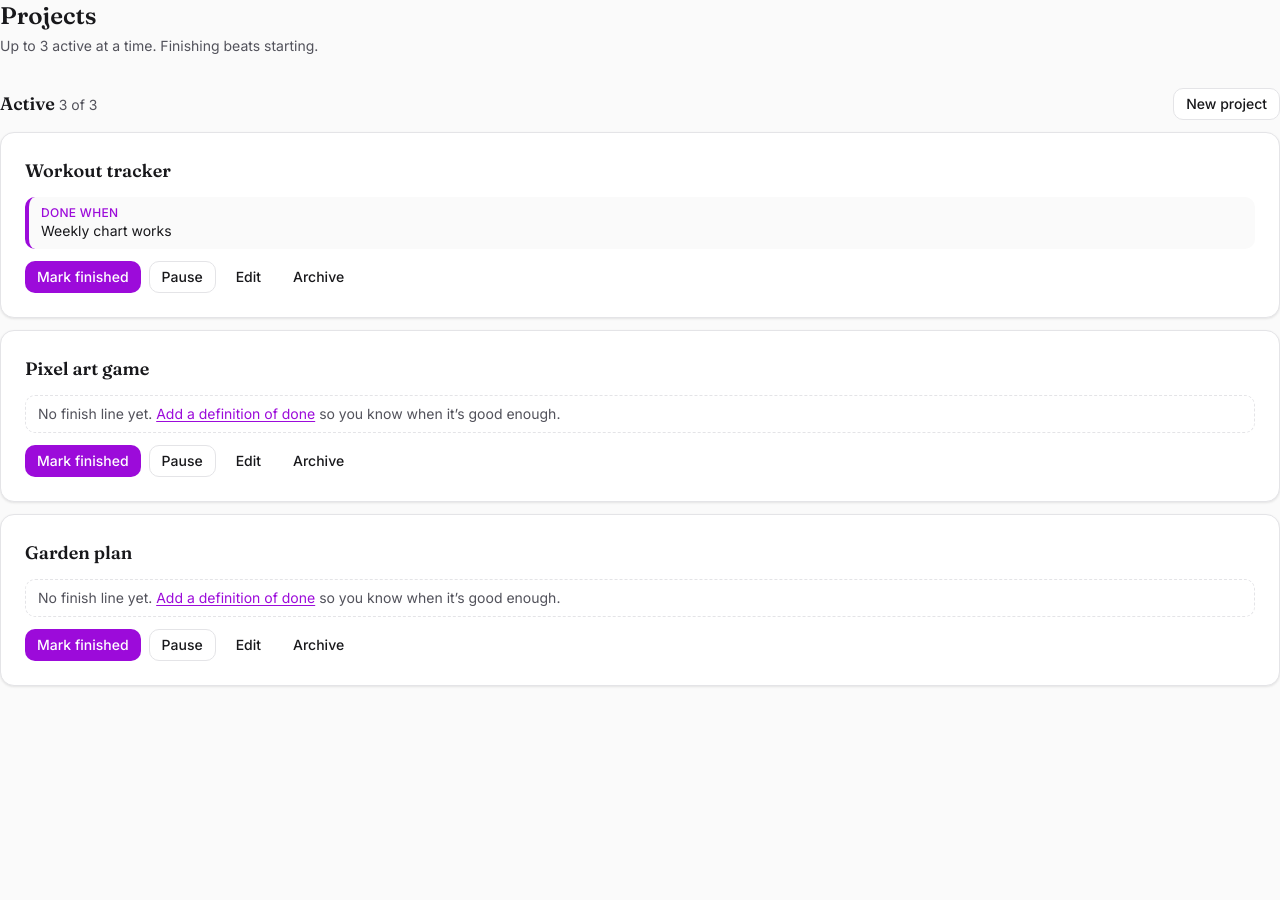
Test: ProjectsPage › at the 3-project limit › explains the limit and offers to park the idea instead
The width and height of the screenshot is (1280, 900).
Click the button "New project": x=1227, y=104 [1173, 88, 1279, 120]
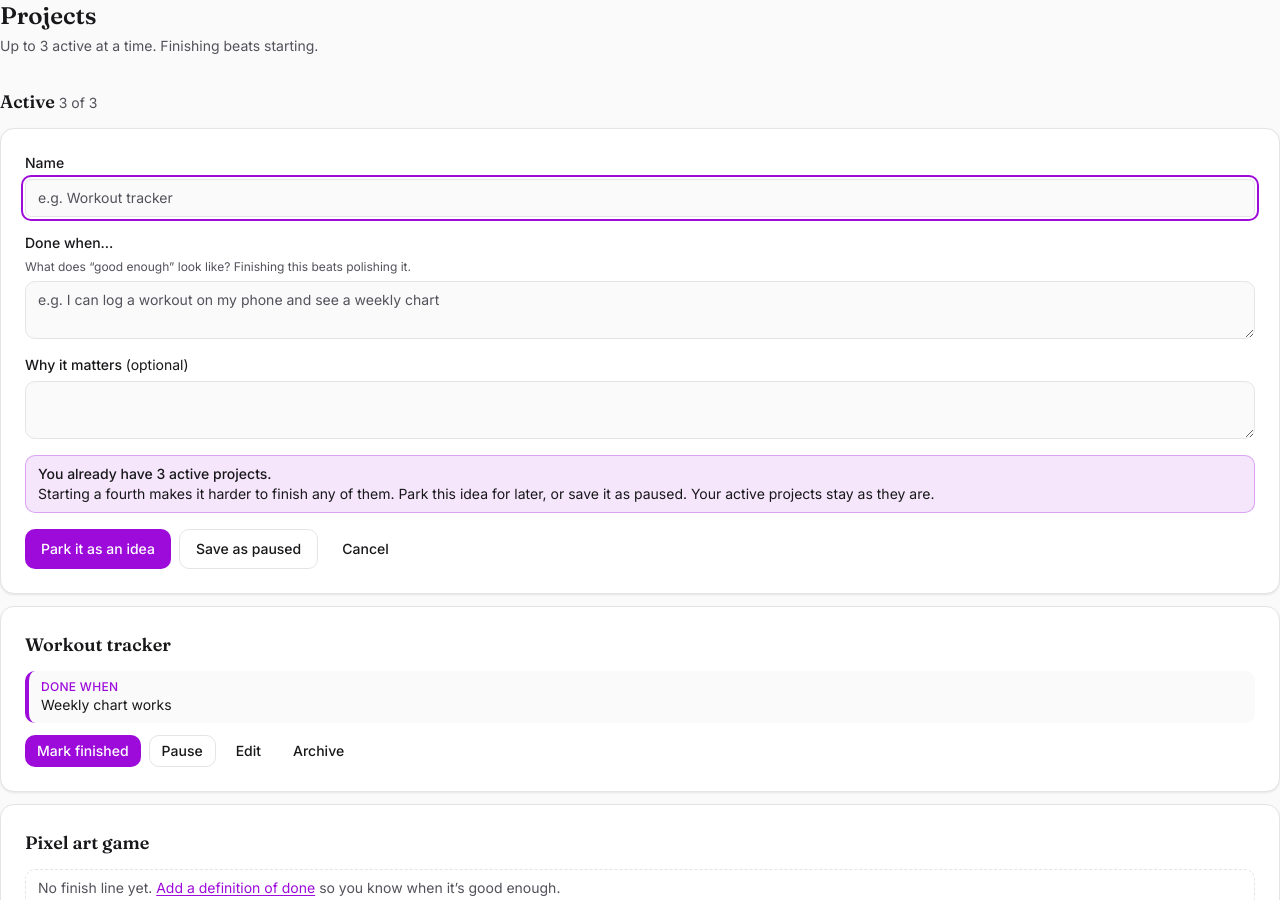
In the field labelled "Name": x=640, y=198 [25, 179, 1255, 217], type "Learn Rust"
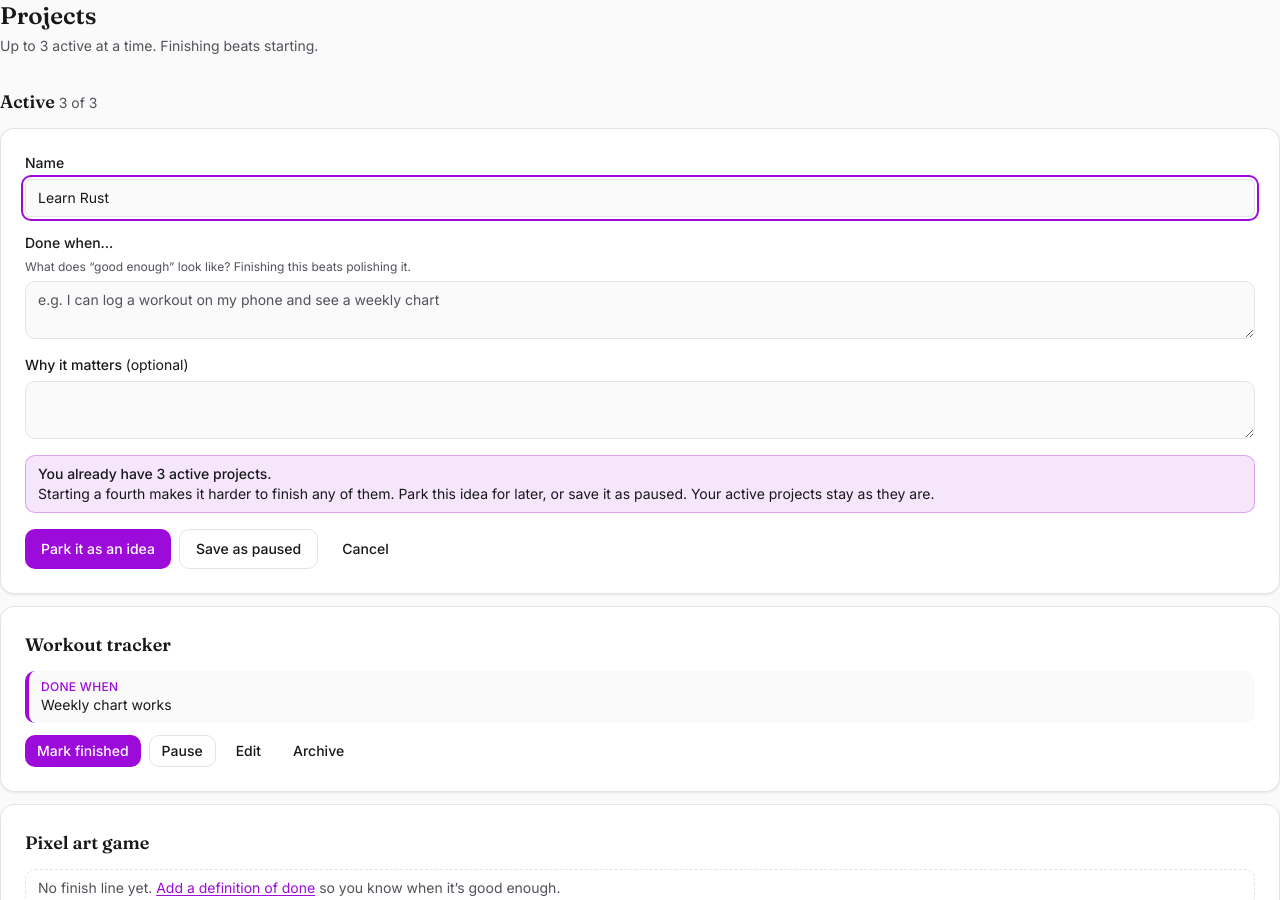
In the text box labelled "Done when…": x=640, y=310 [25, 281, 1255, 339], type "Finish chapter 10"
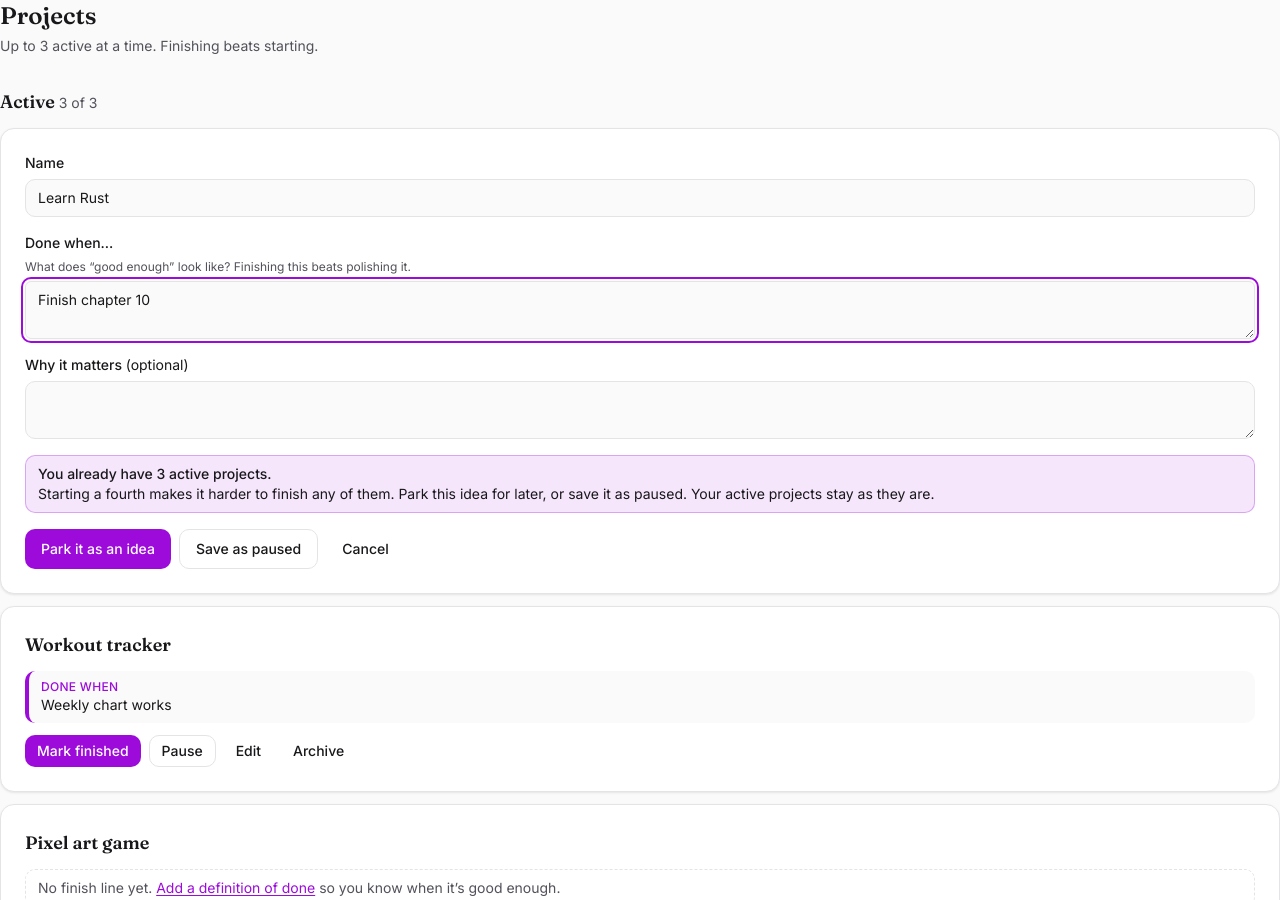
Now the message shows "You already have 3 active projects", box [38, 465, 272, 482]
Click the button "Park it as an idea": x=98, y=549 [25, 529, 171, 569]
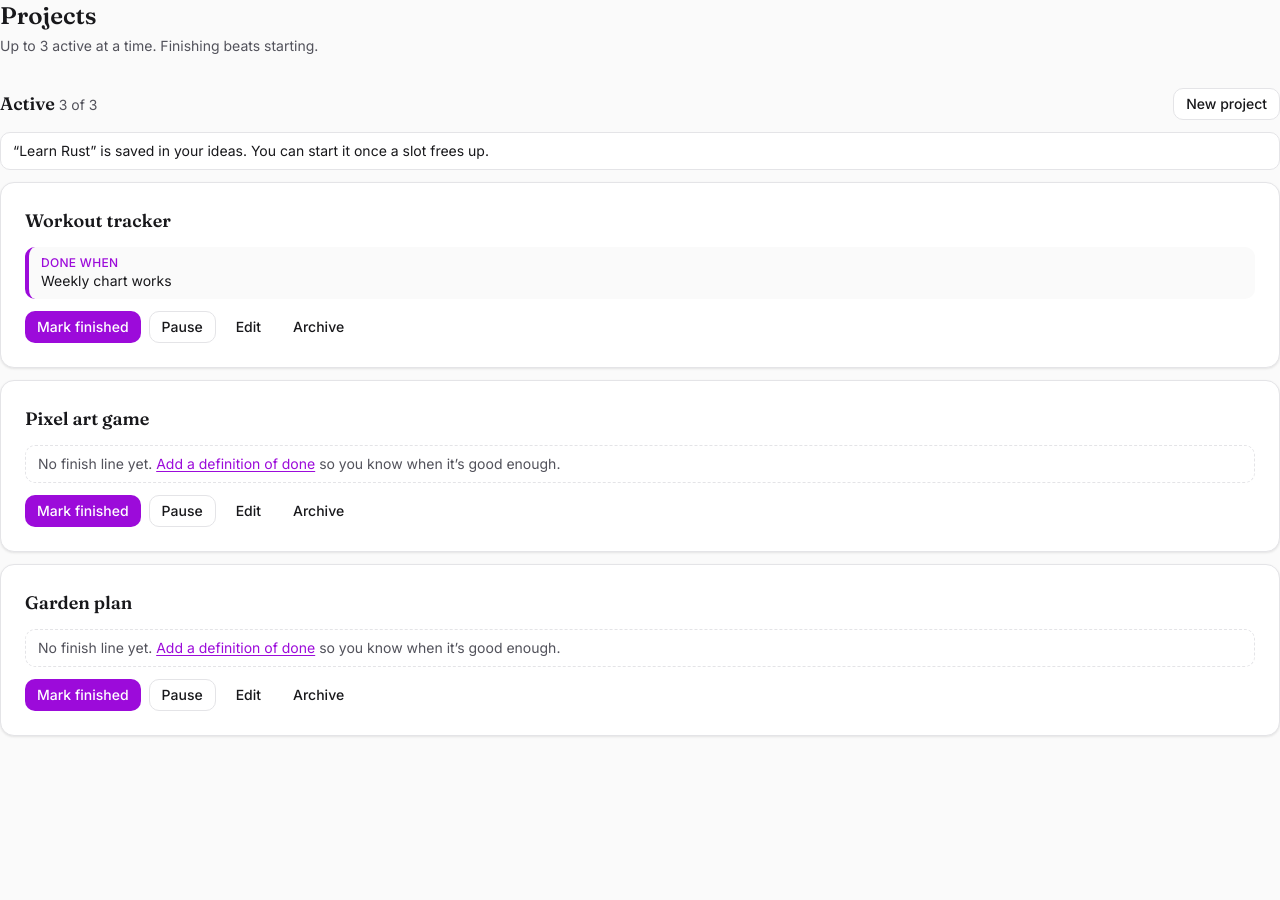
Now the message shows "“Learn Rust” is saved in your ideas", box [0, 132, 1279, 170]
